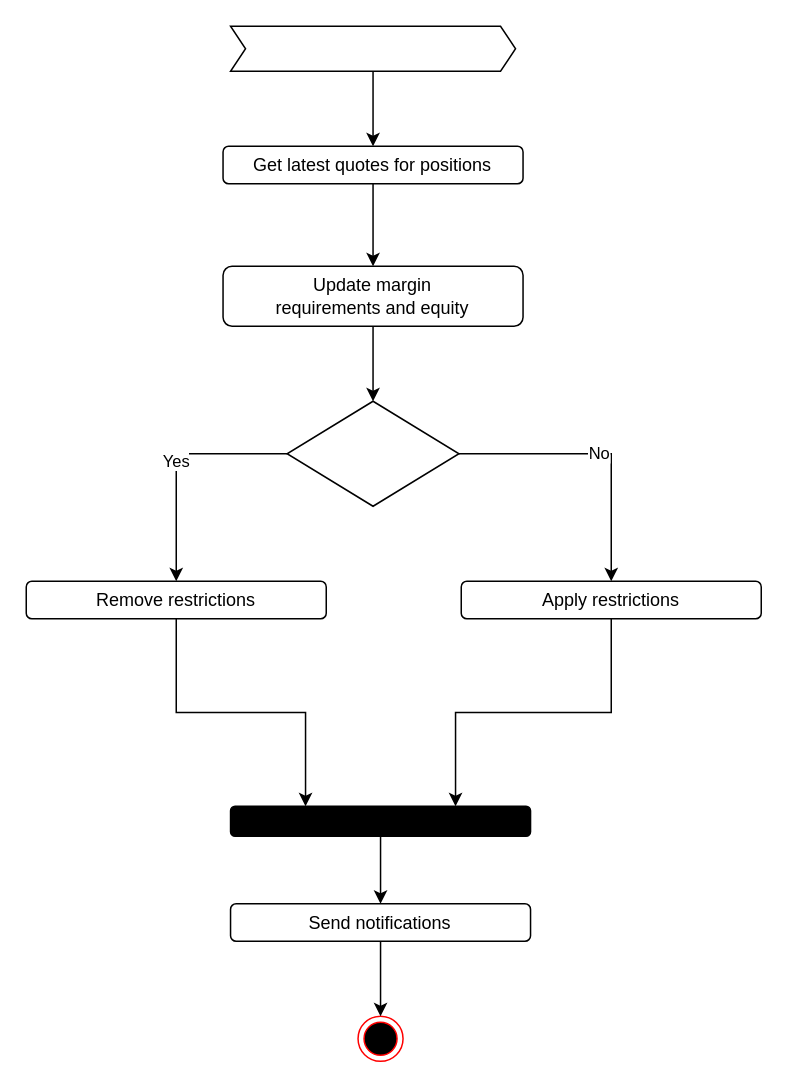
This 788x1088 diagram has some shape labels left out. The shapes that lost their labels are listed below. From the top down, each one's centre as x and y in pixels, then its label:
At pixel 372 48: "Cash balance changes".
At pixel 372 453: "Account in compliance?".
